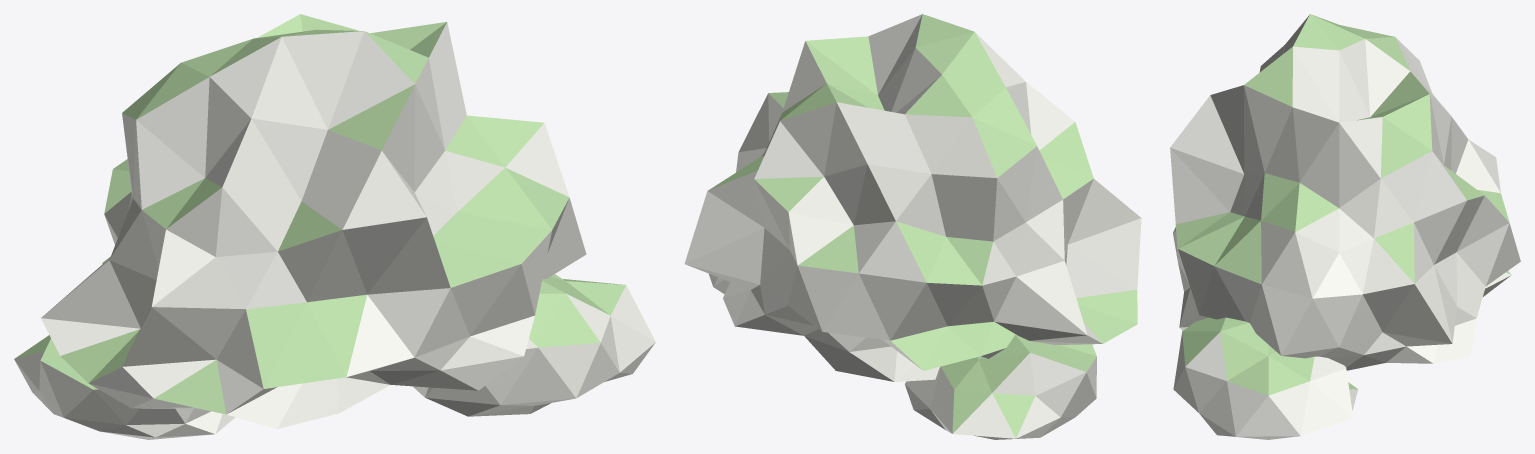
The model's file is cliff_rock.gltf.
3 renders of one model, left to right at view 1: azimuth 30°, elevation 25°; view 2: azimuth 150°, elevation 25°; view 3: azimuth 270°, elevation 25°, orthographic. The views are drawn at different scales.
Parts seen in each view (by area): view 1: cliff_rock_Stone_Rock, cliff_rock_Stone_Moss; view 2: cliff_rock_Stone_Rock, cliff_rock_Stone_Moss; view 3: cliff_rock_Stone_Rock, cliff_rock_Stone_Moss.
Boxes of the visible parts, bbox=[...] form: cliff_rock_Stone_Rock: bbox=[14, 22, 655, 439]; cliff_rock_Stone_Moss: bbox=[14, 14, 625, 414]; cliff_rock_Stone_Rock: bbox=[684, 14, 1141, 439]; cliff_rock_Stone_Moss: bbox=[708, 14, 1137, 438]; cliff_rock_Stone_Rock: bbox=[1170, 14, 1520, 439]; cliff_rock_Stone_Moss: bbox=[1173, 14, 1511, 395].
Bounding box in the file's own units: 4.92 × 3.52 × 3.48.
